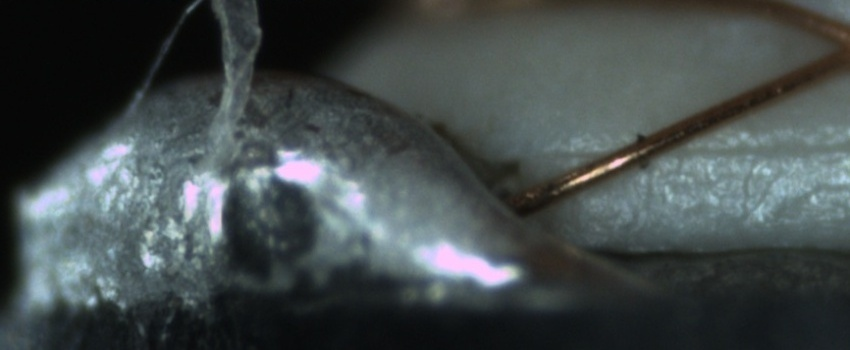CL: (806, 10, 850, 81)
DL: (555, 119, 849, 179)
